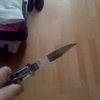knife: (7, 43, 77, 86)
